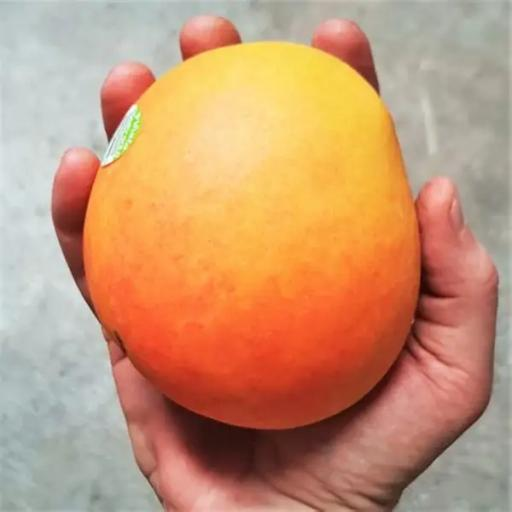mango: (84, 42, 419, 428)
